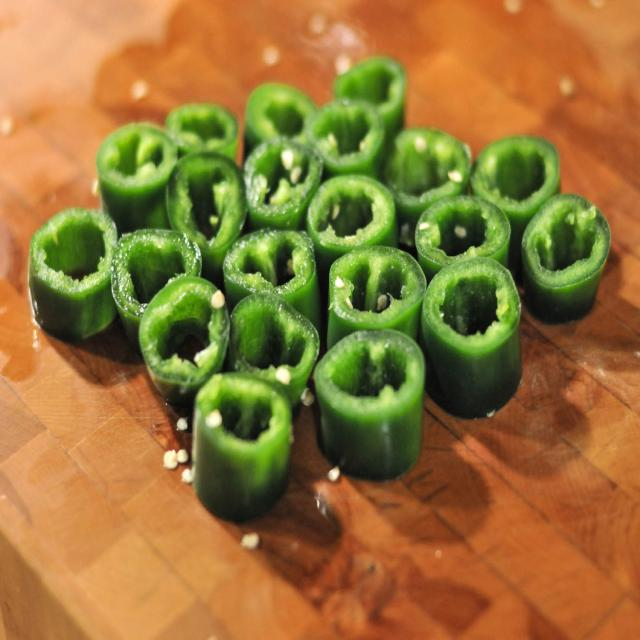Jalepeno: (421, 243, 536, 419), (313, 311, 431, 482), (184, 370, 298, 523), (21, 190, 130, 349), (134, 258, 233, 410), (316, 230, 432, 345), (520, 172, 608, 318), (288, 150, 402, 260), (404, 178, 518, 286), (220, 205, 328, 316), (110, 206, 199, 338), (219, 298, 329, 398), (475, 110, 563, 218), (165, 144, 247, 258)
